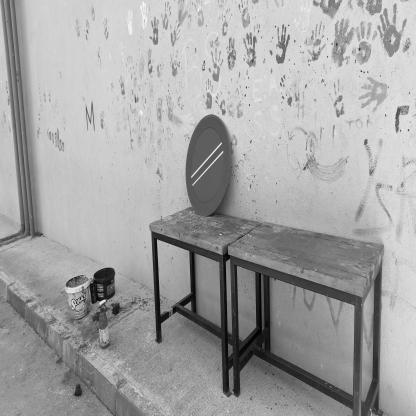No Waiting: (187, 115, 231, 217)
